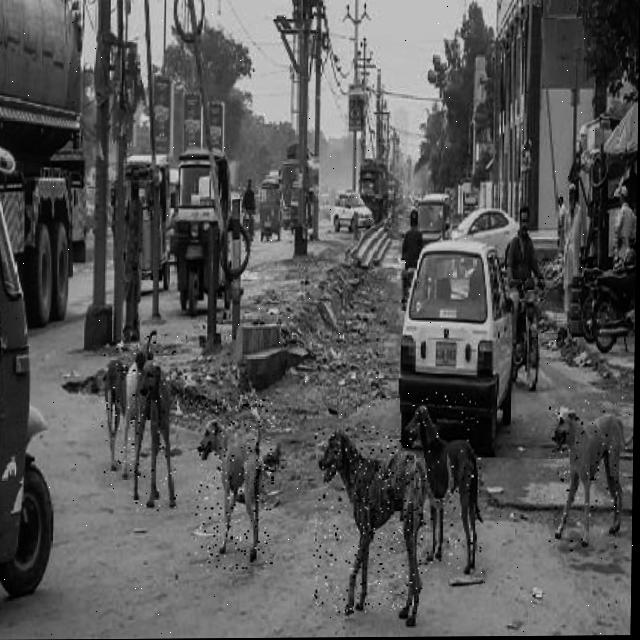Dog: (312, 426, 427, 616), (404, 392, 485, 574), (194, 398, 277, 572), (547, 394, 630, 553), (134, 336, 180, 513), (99, 348, 152, 481)
